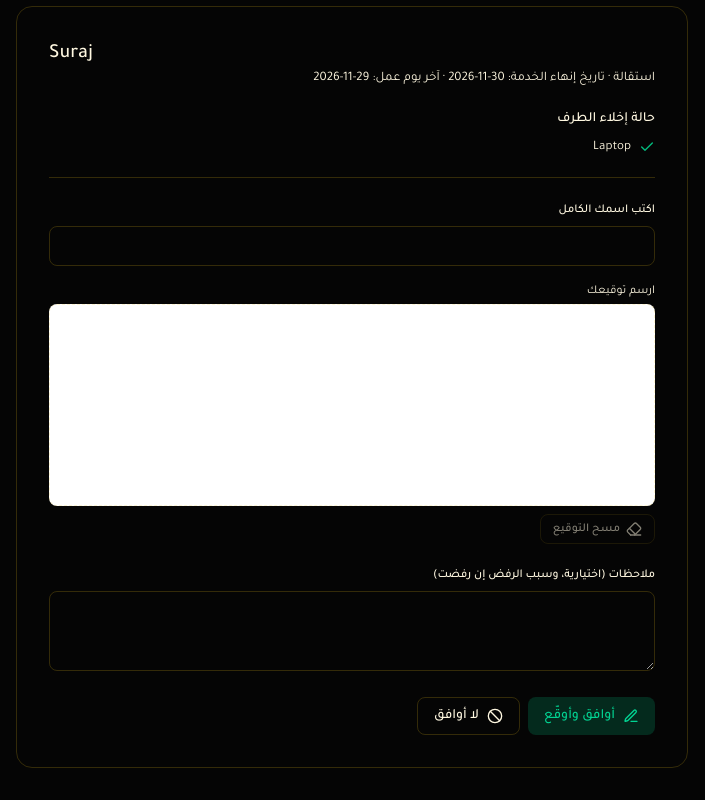
Test: PublicExitSign › asks for the typed name and a drawn signature before signing
(page scrolled)
Expected: the heading "Suraj" is shown, [49, 44, 93, 64]
Step 1. Click the button "أوافق وأوقّع" → click(592, 716), box [528, 697, 655, 735]
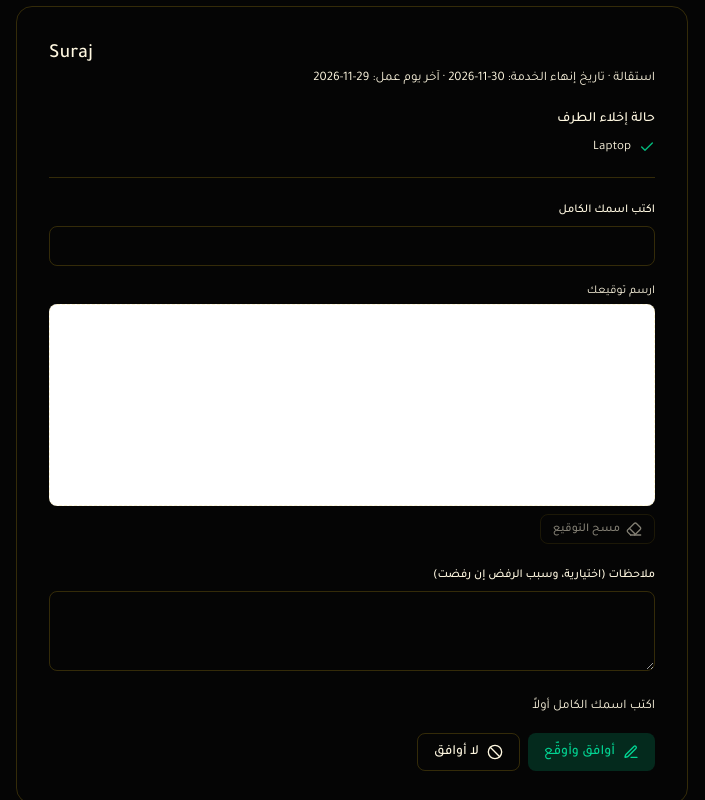
Expected: the text "اكتب اسمك الكامل أولاً" is shown, [532, 700, 655, 713]
Step 2. Type "Suraj Kumar" into the field labelled "اكتب اسمك الكامل" → (352, 246), box [49, 226, 655, 266]
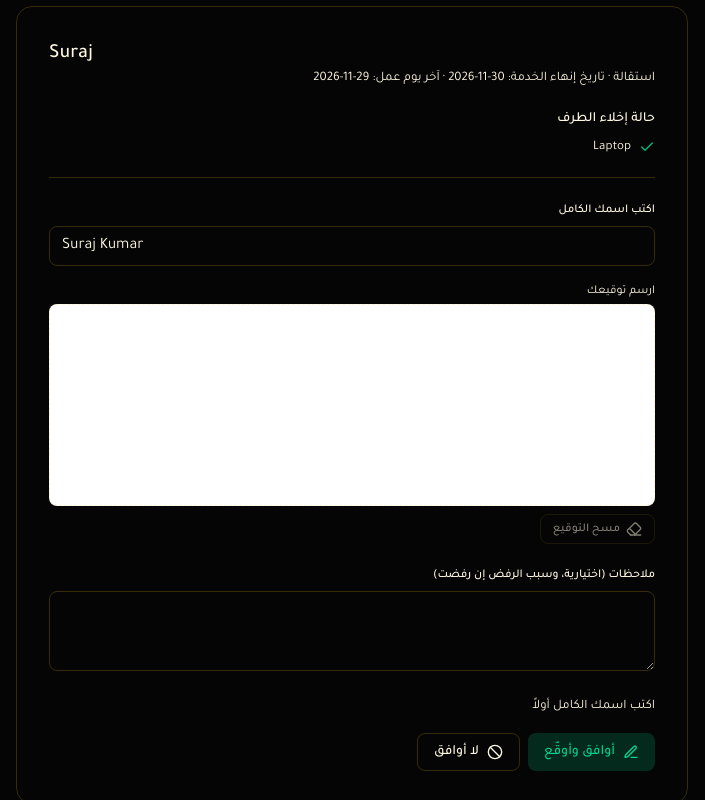
Step 3. Click the button "أوافق وأوقّع" → click(592, 752), box [528, 732, 655, 770]
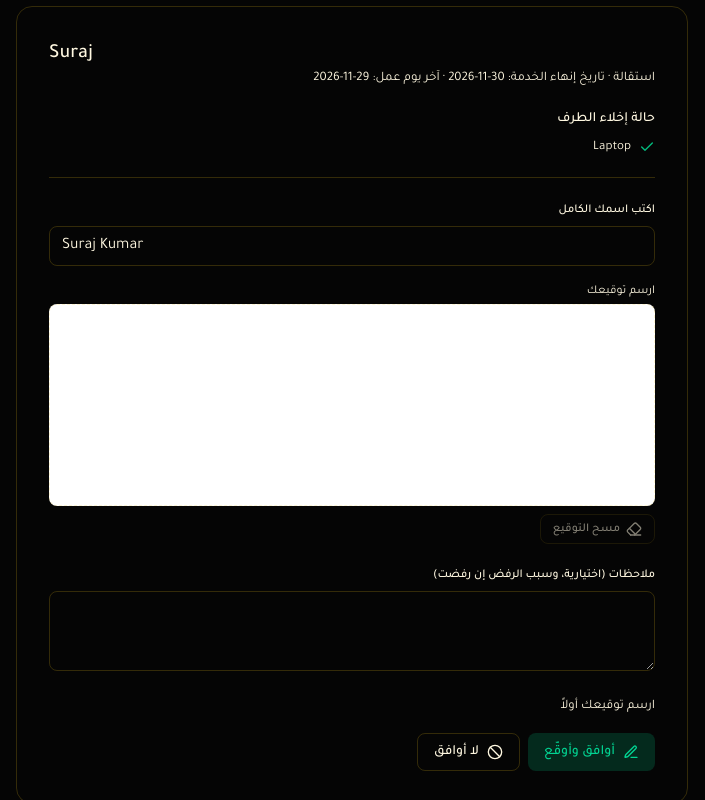
Expected: the text "ارسم توقيعك أولاً" is shown, [560, 700, 655, 713]
